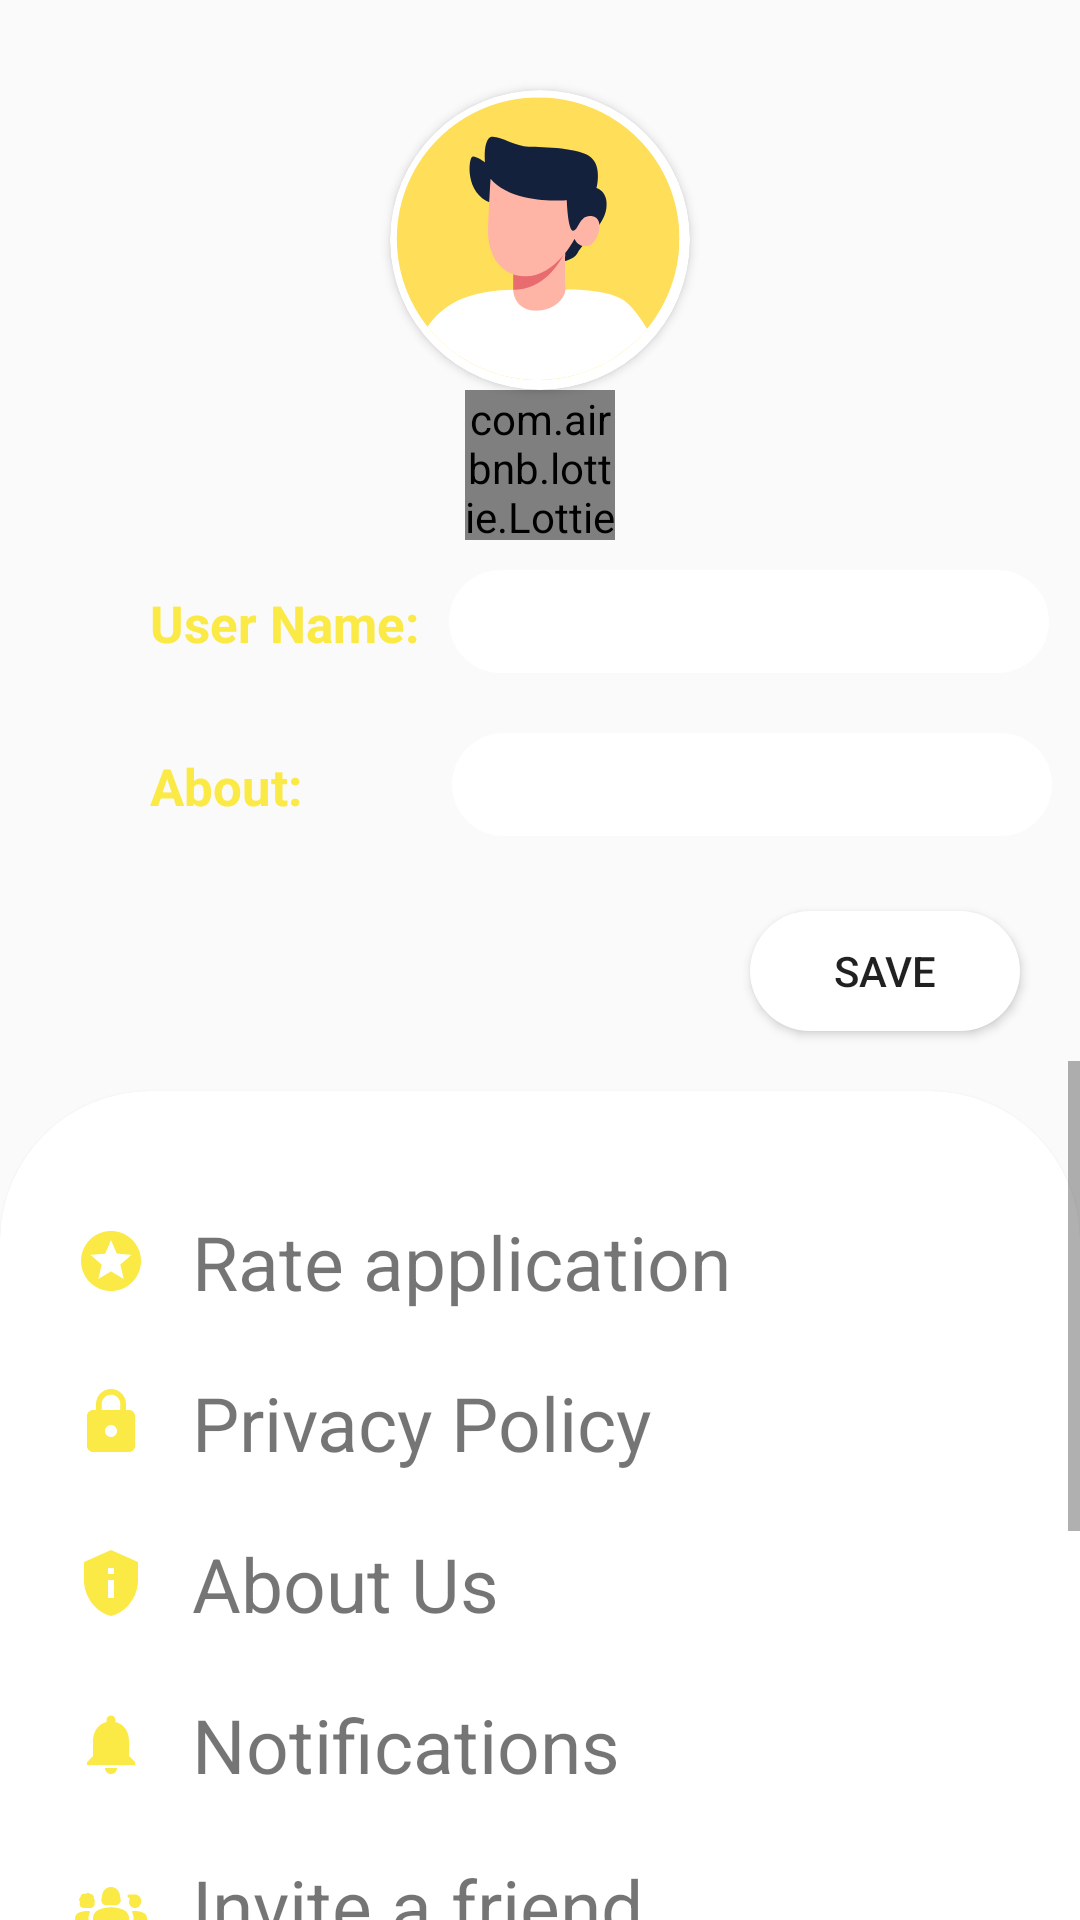

Icons on this 1080px x 1920px Android screen, each with the point to tap as [x,y]:
yellowavatar: [538,243]
